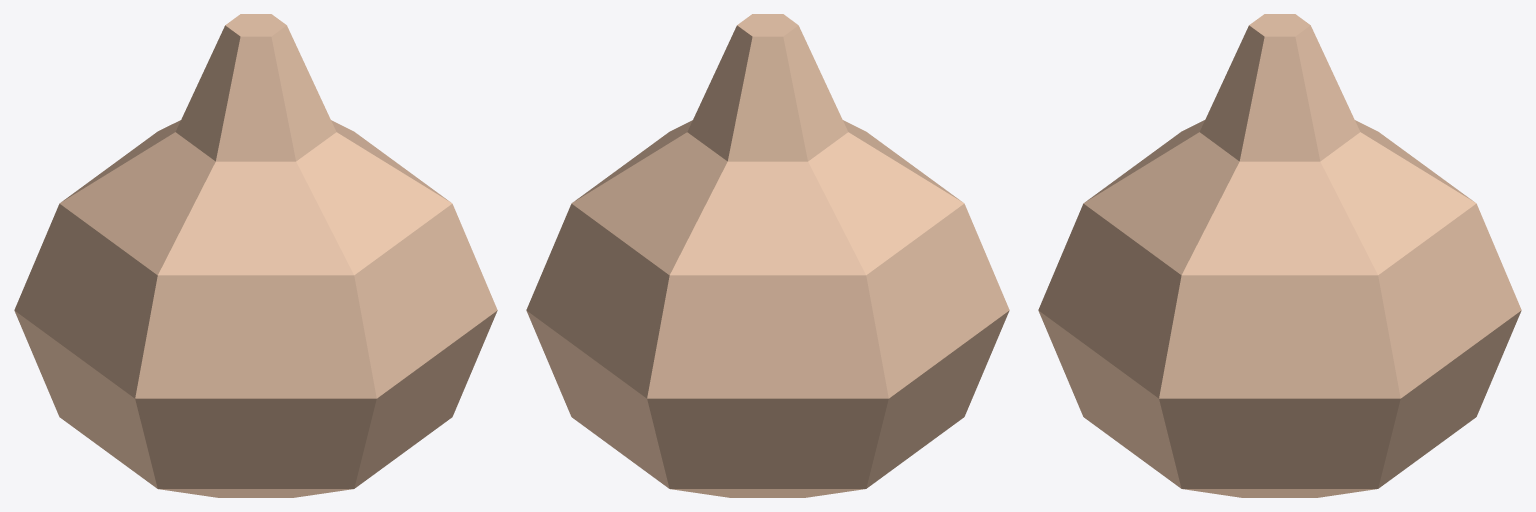
Rendered from onion.glb.
The picture shows the model from 3 angles, left to right: view 1: azimuth 30°, elevation 25°; view 2: azimuth 150°, elevation 25°; view 3: azimuth 270°, elevation 25°; orthographic projection.
Visible parts, largest first — view 1: onion; view 2: onion; view 3: onion.
Boxes of the visible parts, x1,y1,x2,y2 form: onion: (14, 14, 497, 497); onion: (526, 14, 1009, 497); onion: (1038, 14, 1521, 497).
Bounding box in the file's own units: 0.213 × 0.25 × 0.246.
